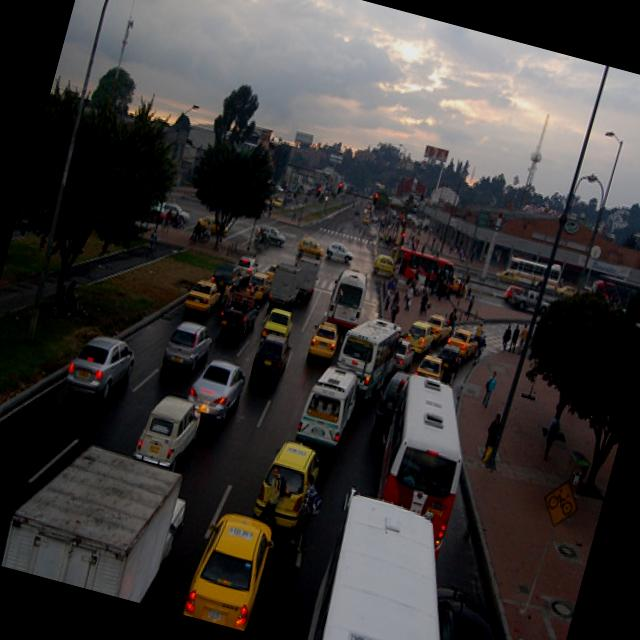Vehicle: (121, 140, 538, 402), (0, 427, 196, 608), (299, 484, 486, 640), (352, 370, 482, 549), (181, 498, 276, 631), (328, 310, 406, 409), (250, 434, 324, 532), (59, 325, 140, 411), (132, 388, 206, 474), (185, 354, 248, 422), (390, 245, 461, 298), (160, 316, 218, 376), (324, 264, 370, 329), (250, 329, 296, 384), (505, 252, 563, 294), (400, 314, 440, 360), (268, 259, 305, 305), (306, 317, 342, 363), (288, 254, 322, 301), (508, 284, 554, 316), (443, 326, 481, 364), (420, 310, 454, 346), (414, 352, 446, 380), (324, 240, 356, 264)
